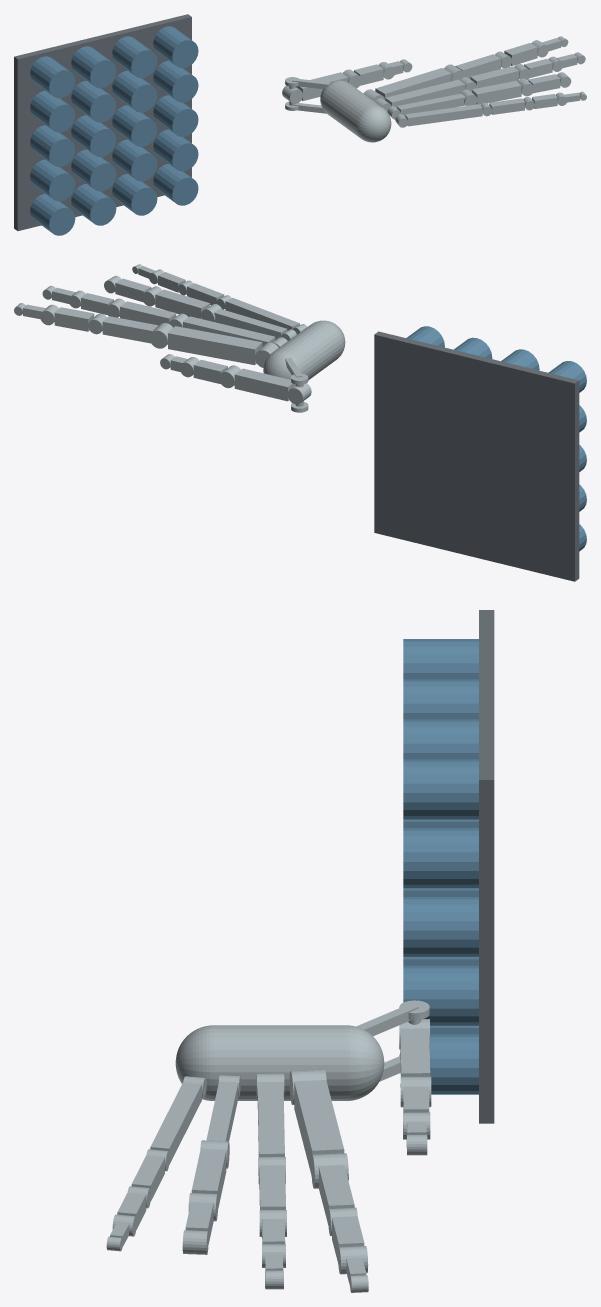
Rendered from transmission_layout.glb.
3 views of the same model, one above another, from view 1: azimuth 30°, elevation 25°; view 2: azimuth 150°, elevation 25°; view 3: azimuth 270°, elevation 25° (orthographic). The views are drawn at different scales.
Visible parts, largest first — view 1: forearm_actuator_rack, link_0_0_0, actuator_envelope_17, actuator_envelope_16, actuator_envelope_18, actuator_envelope_19, actuator_envelope_6, actuator_envelope_7, actuator_envelope_10, actuator_envelope_13, actuator_envelope_14, actuator_envelope_2 (+24 smaller); view 2: forearm_actuator_rack, link_0_0_0, link_2_0_0, link_1_0_0, link_2_1_0, link_3_0_0, link_4_1_0, link_4_0_0, link_5_0_0, link_3_1_0, link_2_2_0, link_1_1_0 (+7 smaller); view 3: link_0_0_0, forearm_actuator_rack, actuator_envelope_15, actuator_envelope_19, actuator_envelope_11, actuator_envelope_7, actuator_envelope_16, actuator_envelope_17, actuator_envelope_18, actuator_envelope_3, link_2_0_0, link_3_0_0 (+8 smaller).
Boxes of the visible parts, x1,y1,x2,y2 form: forearm_actuator_rack: [14, 14, 191, 230]; link_0_0_0: [320, 80, 391, 142]; actuator_envelope_17: [71, 46, 116, 88]; actuator_envelope_16: [30, 56, 75, 98]; actuator_envelope_18: [112, 36, 157, 78]; actuator_envelope_19: [153, 26, 198, 68]; actuator_envelope_6: [112, 139, 157, 181]; actuator_envelope_7: [153, 129, 198, 171]; actuator_envelope_10: [112, 105, 157, 146]; actuator_envelope_13: [71, 81, 116, 122]; actuator_envelope_14: [112, 70, 157, 112]; actuator_envelope_2: [112, 174, 157, 215]; forearm_actuator_rack: [374, 331, 579, 581]; link_0_0_0: [263, 320, 345, 380]; link_2_0_0: [168, 326, 262, 365]; link_1_0_0: [234, 368, 295, 401]; link_2_1_0: [102, 316, 158, 343]; link_3_0_0: [183, 316, 275, 346]; link_4_1_0: [155, 289, 209, 318]; link_4_0_0: [214, 309, 287, 339]; link_5_0_0: [225, 298, 299, 330]; link_3_1_0: [120, 301, 176, 325]; link_2_2_0: [54, 307, 94, 331]; link_1_1_0: [193, 359, 227, 383]; link_0_0_0: [175, 1025, 384, 1100]; forearm_actuator_rack: [479, 610, 494, 1123]; actuator_envelope_15: [403, 828, 478, 888]; actuator_envelope_19: [403, 759, 478, 819]; actuator_envelope_11: [403, 897, 478, 956]; actuator_envelope_7: [403, 965, 478, 1025]; actuator_envelope_16: [403, 639, 478, 679]; actuator_envelope_17: [403, 679, 478, 719]; actuator_envelope_18: [403, 719, 478, 759]; actuator_envelope_3: [429, 1034, 478, 1094]; link_2_0_0: [294, 1080, 344, 1175]; link_3_0_0: [257, 1082, 284, 1156].
Bounding box in the file's own units: 0.3158 × 0.1 × 0.1022.
